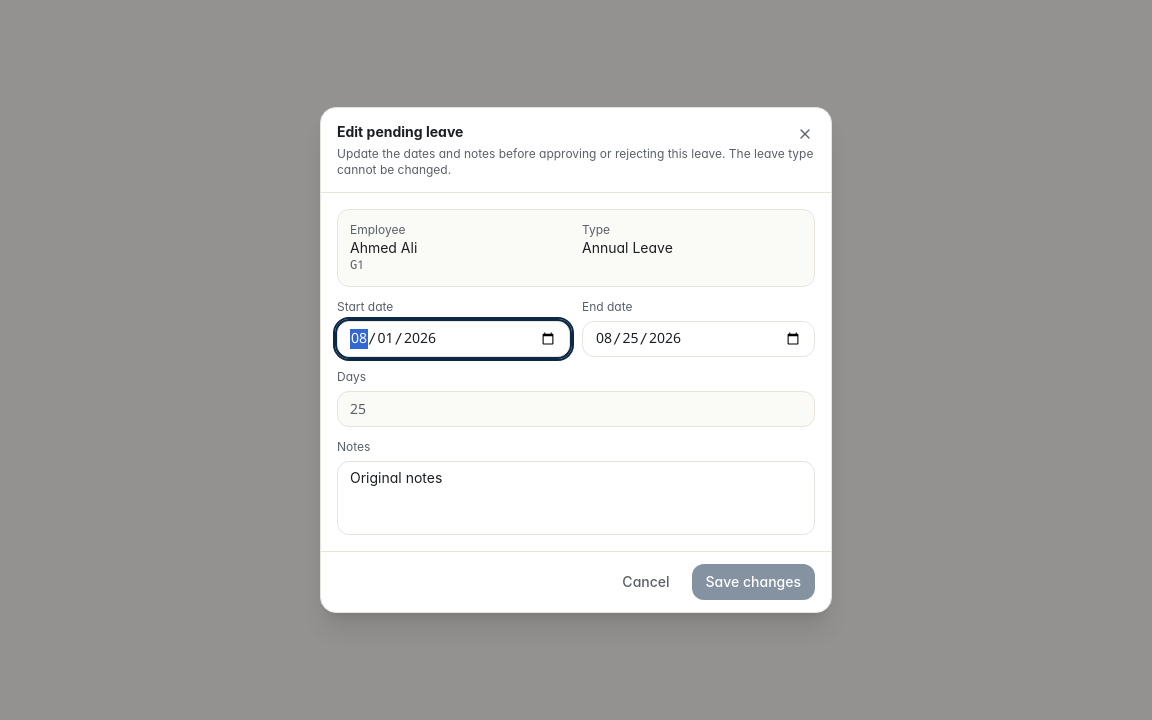
EditLeaveDialog › recalculates inclusive duration from either date, including a single day
This screenshot has width=1152, height=720.
Type "2026-08-10" into the date field labelled "End date".
click(698, 339); type("2026-08-10")  # box [582,321,815,357]
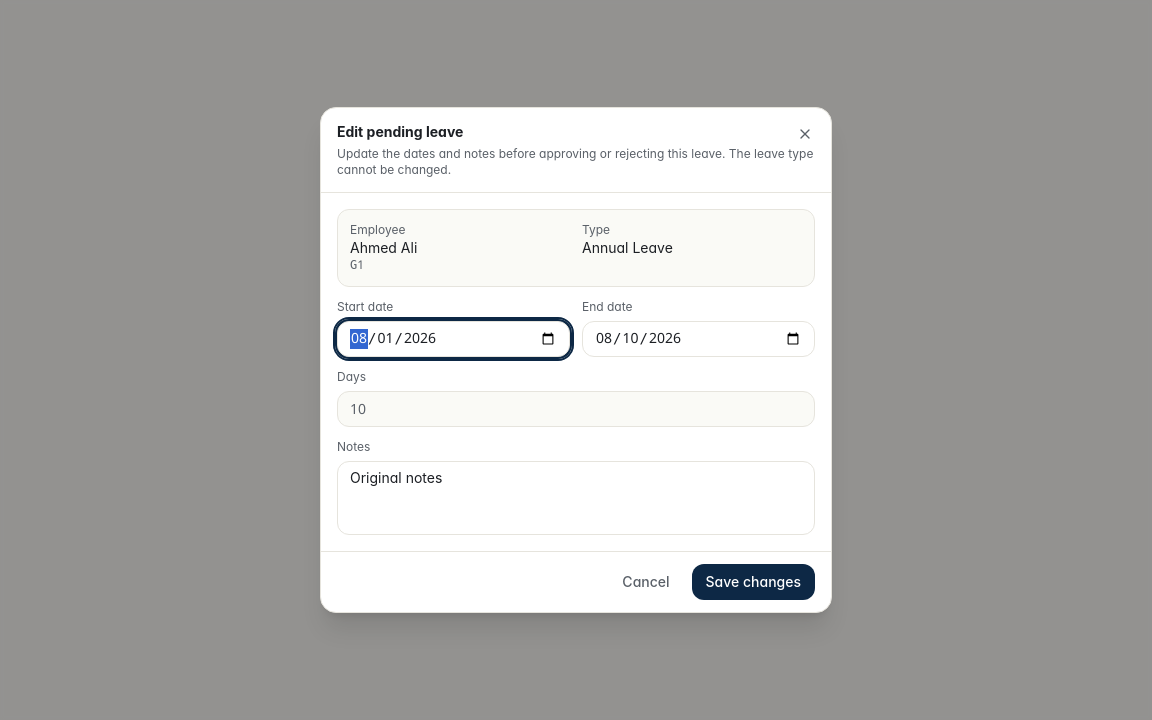
Check: the field labelled "Days" holds "10", box [337,391,815,427]
Type "2026-08-10" into the date field labelled "Start date".
click(454, 339); type("2026-08-10")  # box [337,321,570,357]
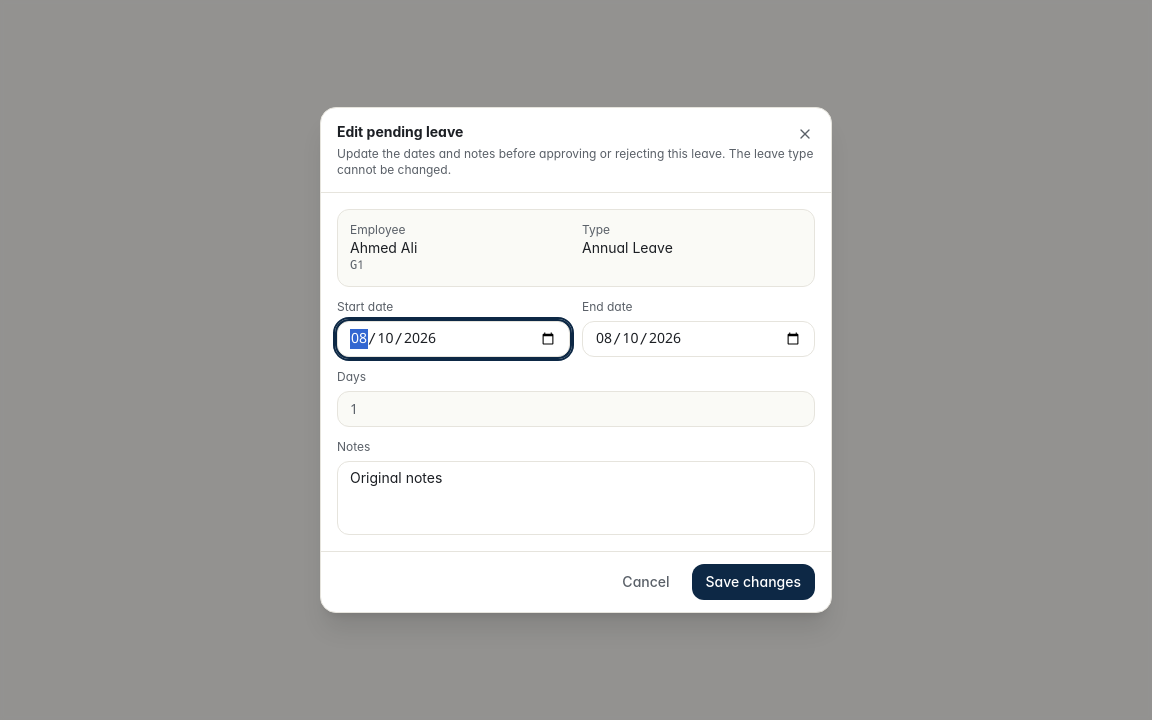
Check: the field labelled "Days" holds "1", box [337,391,815,427]
